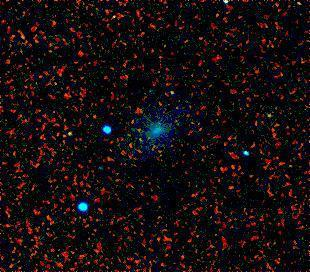star: (154, 77, 184, 107)
